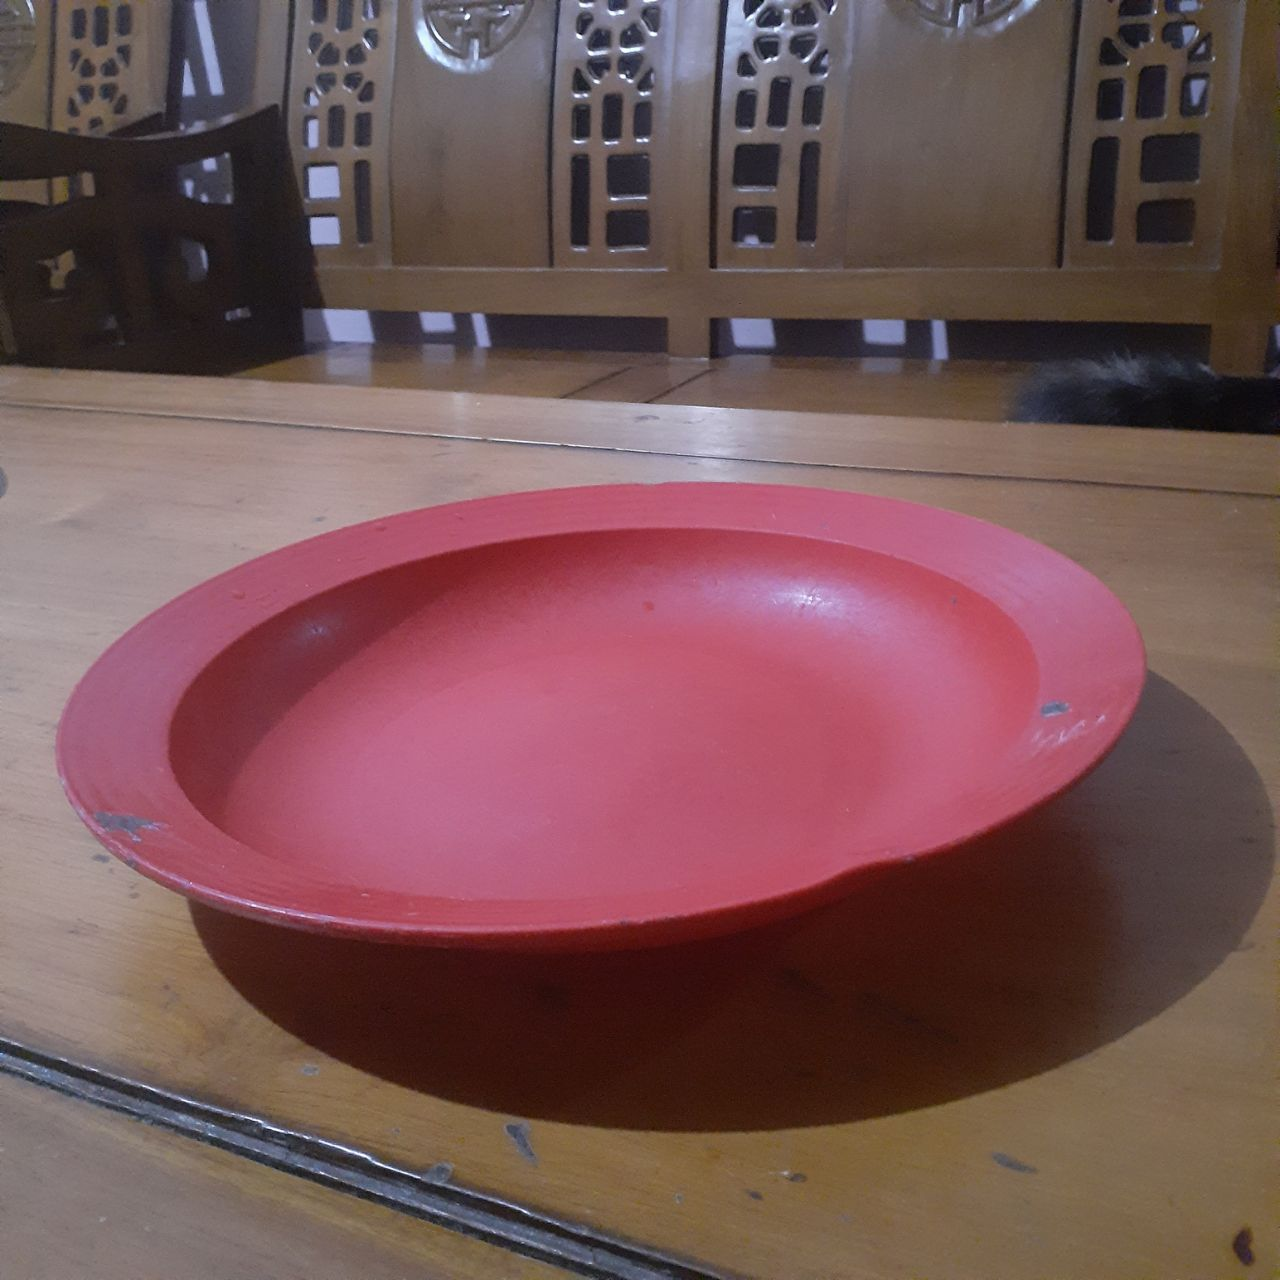piring: (45, 476, 1136, 967)
